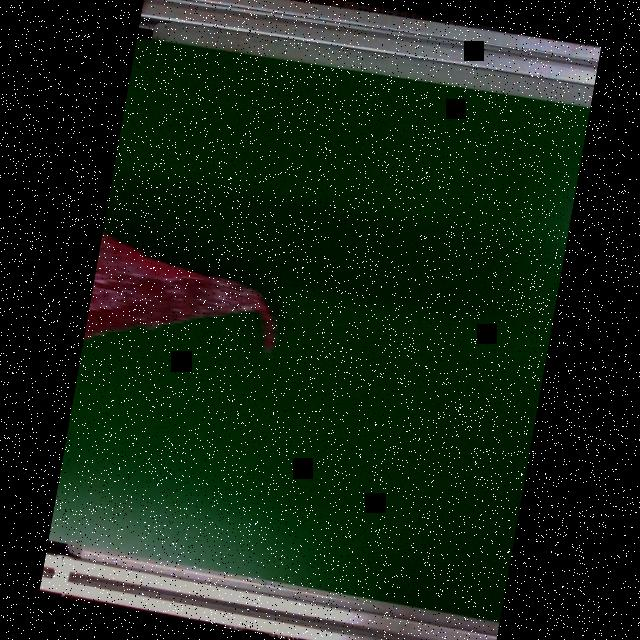scrap_plastic: (82, 228, 298, 388)
